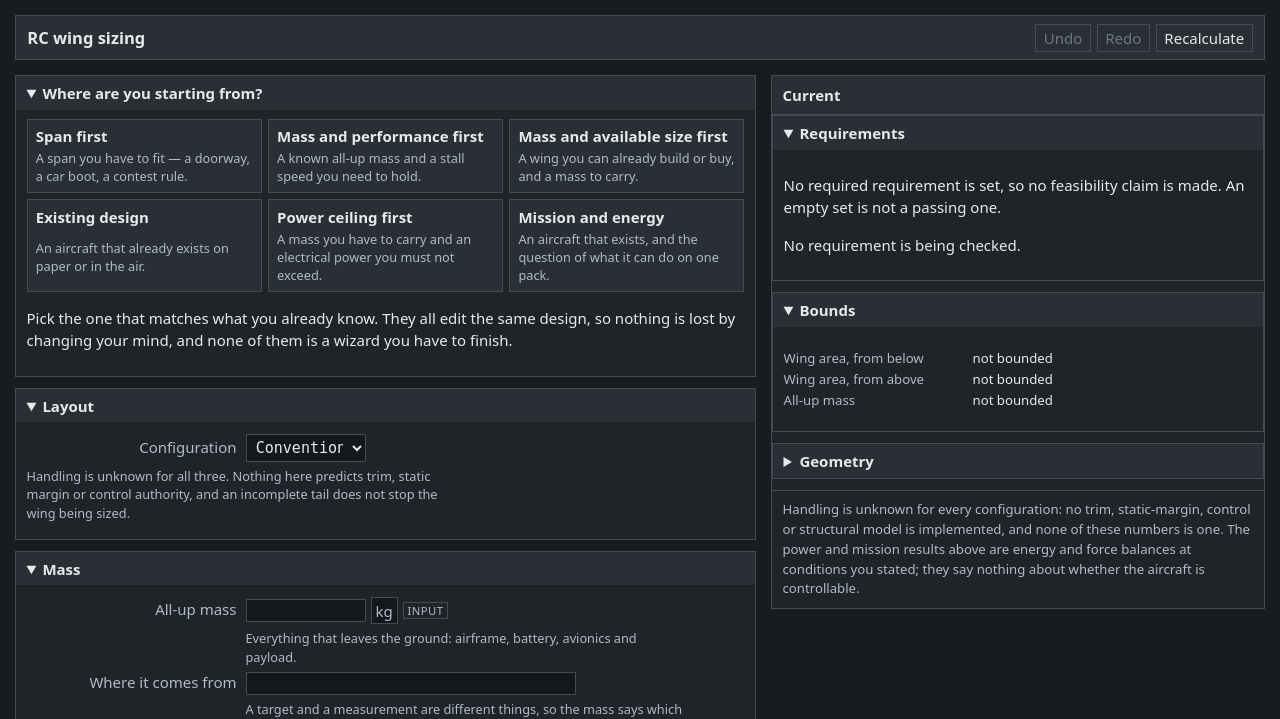
Test: a response that arrives after the builder has moved on › a redo retires an outstanding identity in the same way
Check: the text "Current" is shown, box [782,85,840,105]
In the field labelled "All-up mass": (306, 611) [246,599,366,622], type "2"
Then press Enter
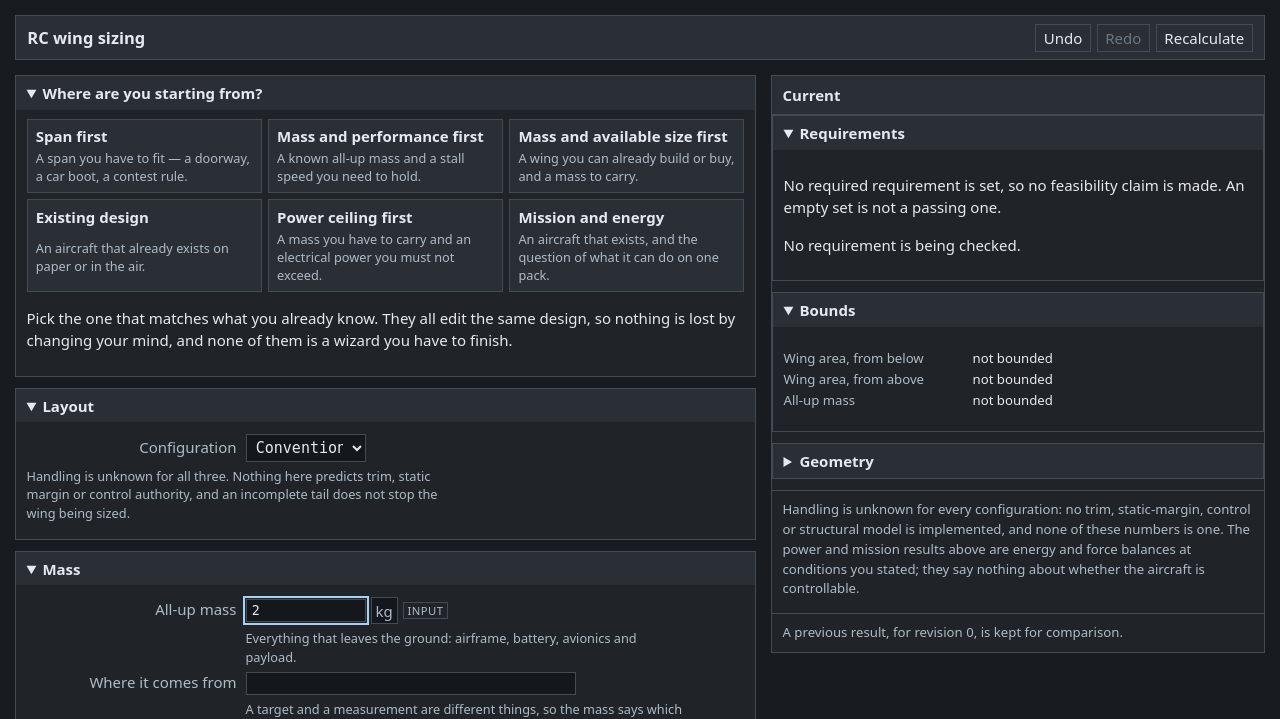
Click the button "Undo": click(1063, 38) [1035,24,1091,52]
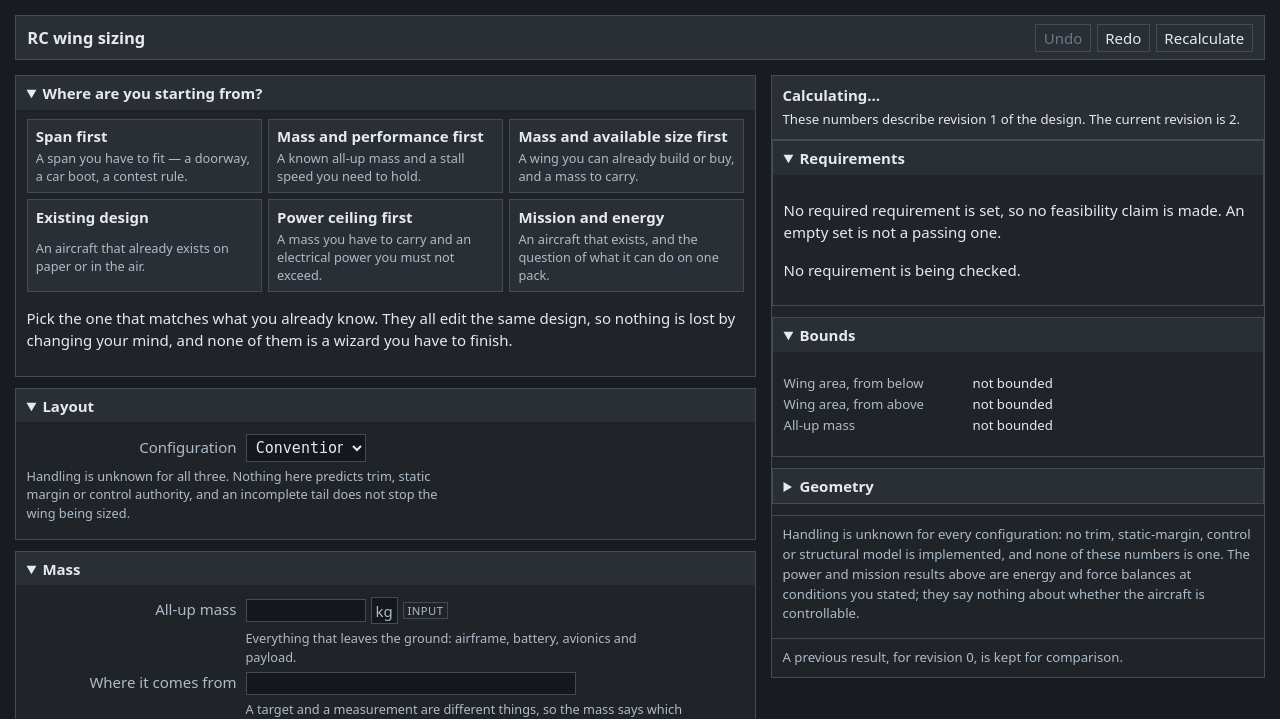
Click the button "Redo": click(1123, 38) [1097,24,1150,52]
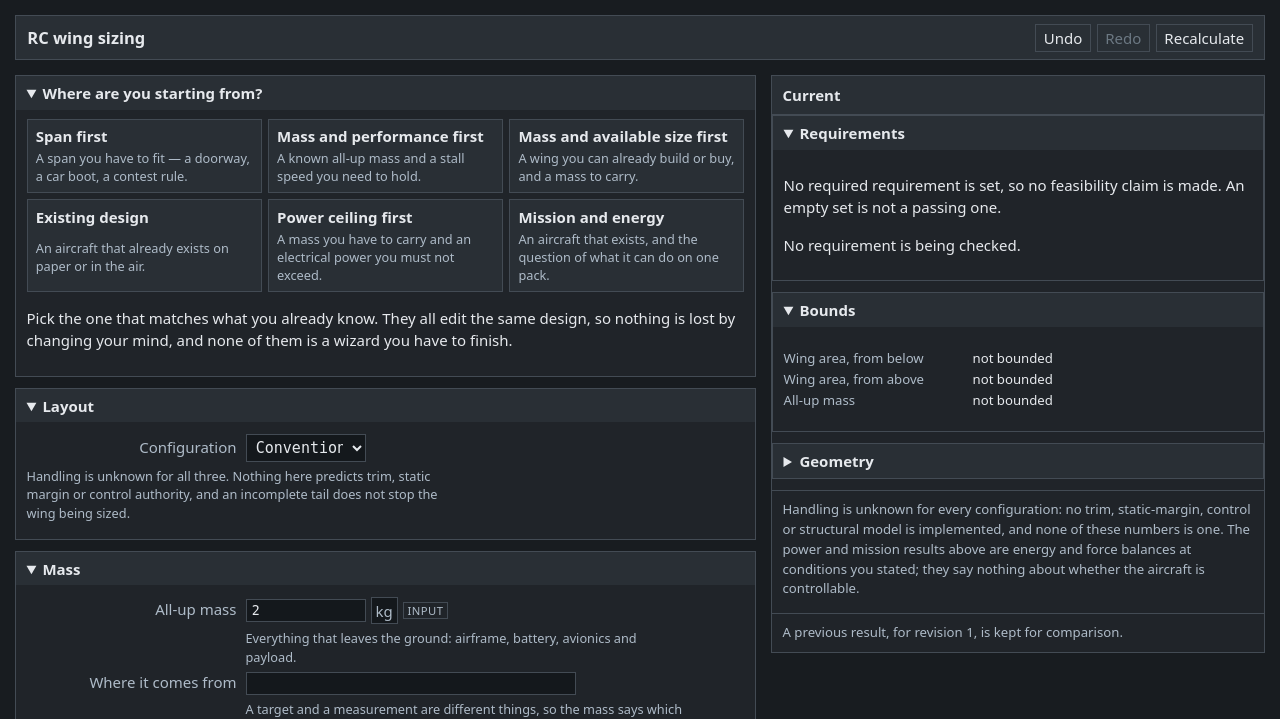
Check: the text "Current" is shown, box [782,85,840,105]
